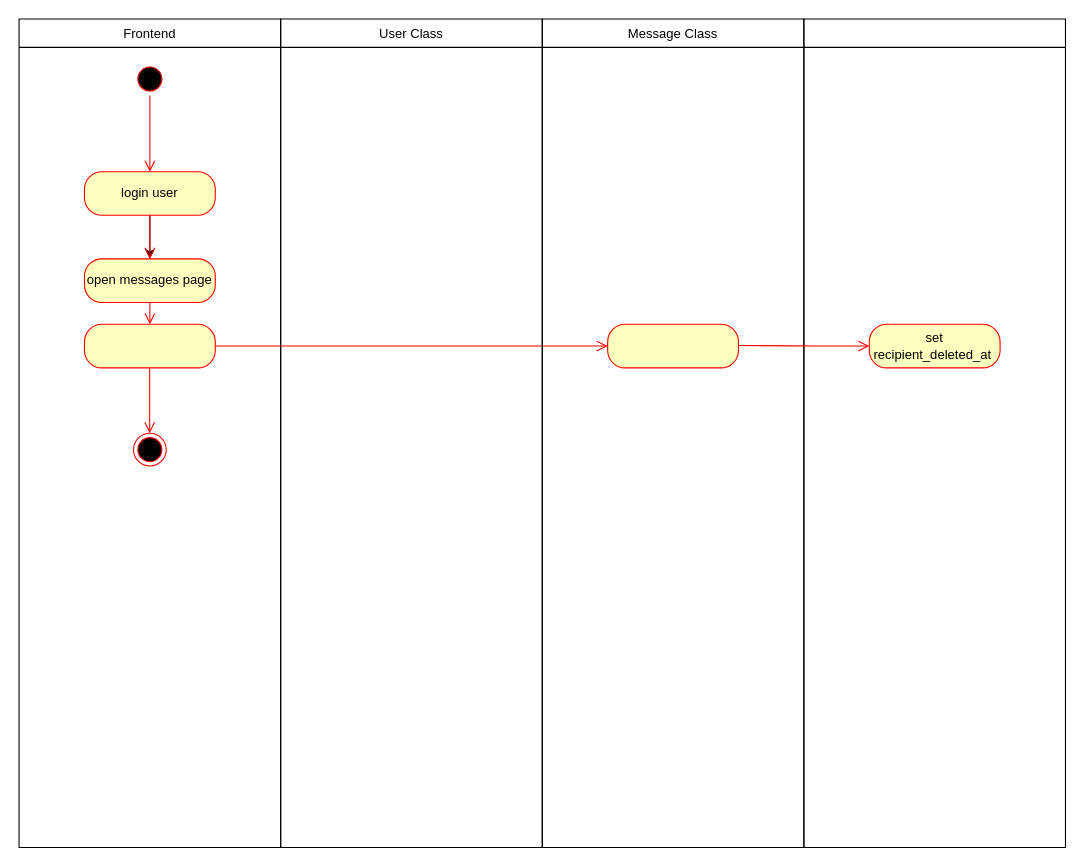
Some shapes in this 1085 by 867 pixel diagram are drawn without their labels. The shapes that lost their labels are listed below. From the top down, each one's box as (x1, y1, x2, y2) in pixels, then its label:
(83, 323, 215, 368): click delete on a message
(607, 323, 738, 368): deleteMessage()
(803, 18, 1065, 847): DB
